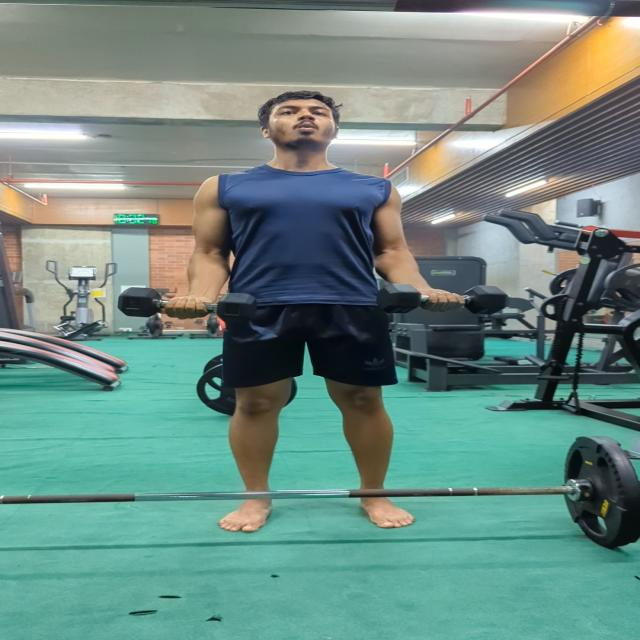Normal_DumbbellBicepCurls: (113, 80, 516, 547)
